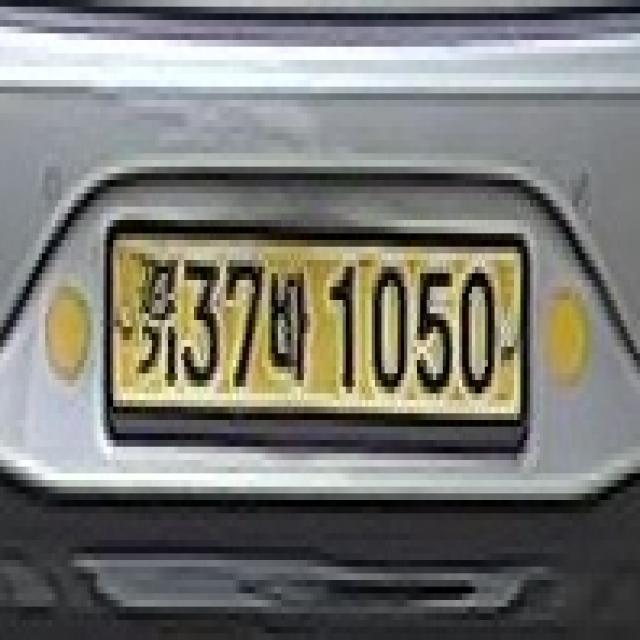plat: (104, 219, 529, 445)
